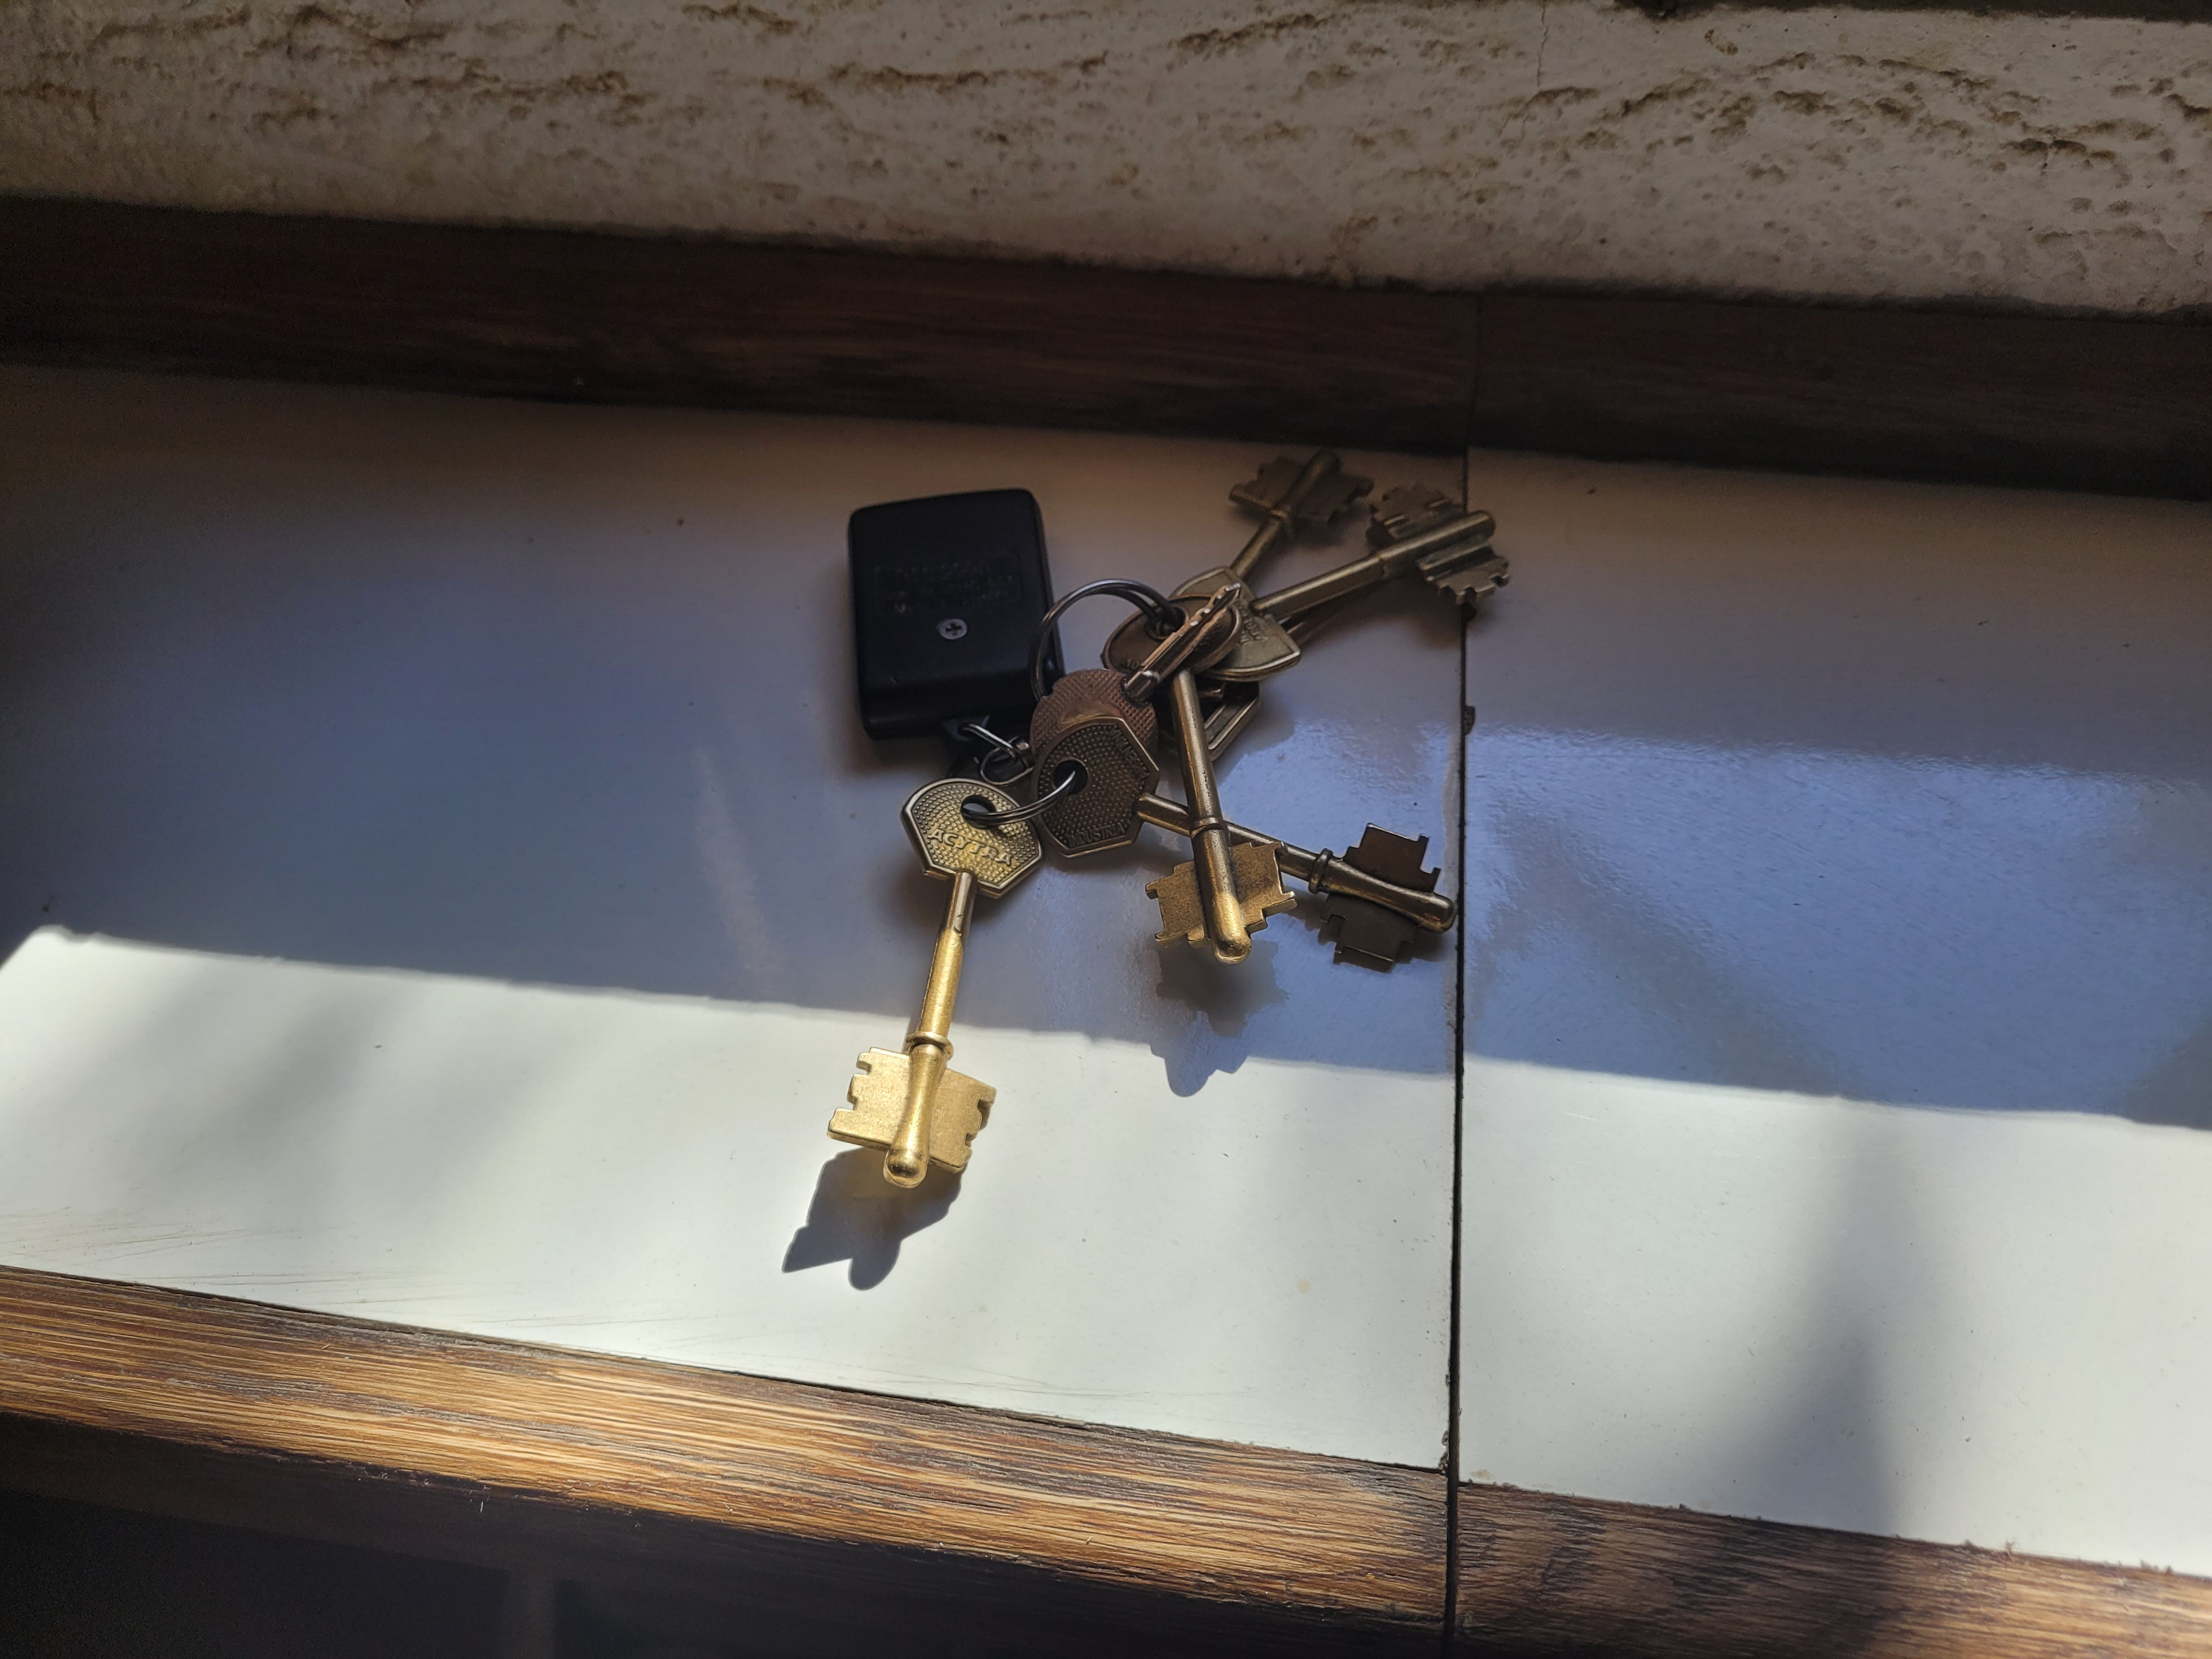llave: (833, 439, 1515, 1229)
